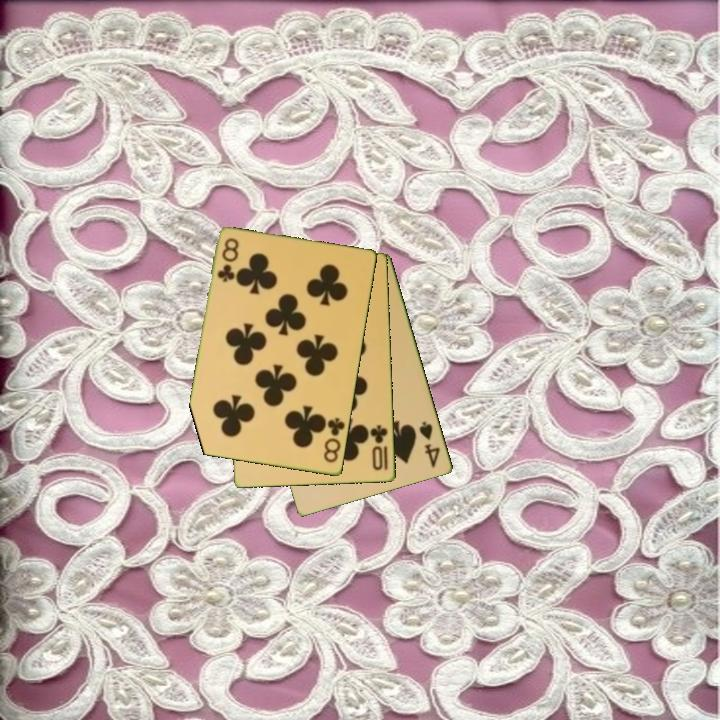10c: (367, 421, 391, 473)
4s: (416, 418, 443, 471)
8c: (320, 414, 348, 466), (214, 235, 242, 285)
